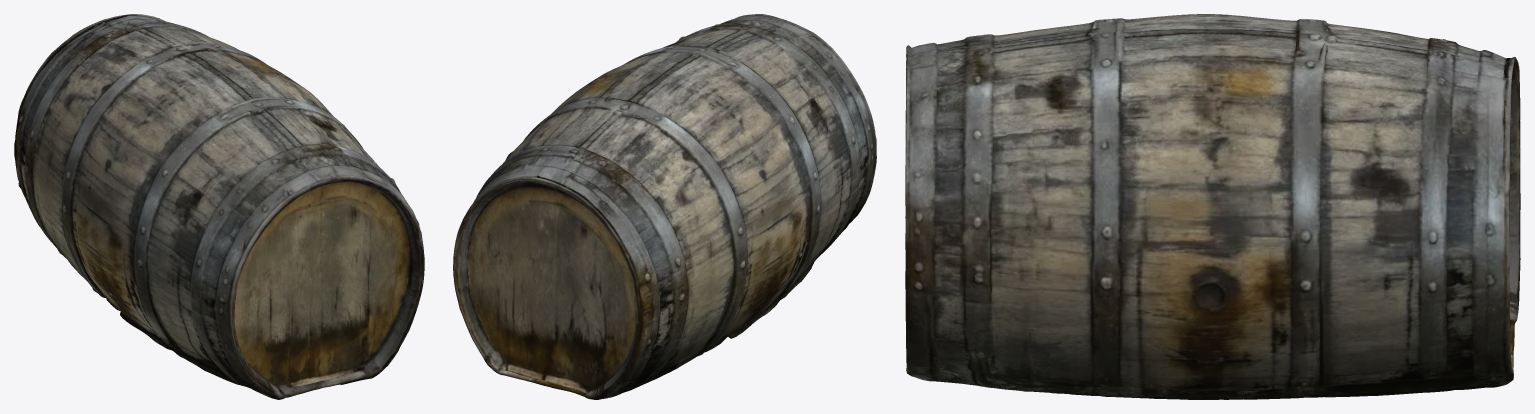
Rendered from floating barrel.glb.
3 views of the same model, side by side, from view 1: azimuth 30°, elevation 25°; view 2: azimuth 150°, elevation 25°; view 3: azimuth 270°, elevation 25° (orthographic). The views are drawn at different scales.
Visible parts, largest first — view 1: geometry_0; view 2: geometry_0; view 3: geometry_0.
Boxes of the visible parts, bbox=[...] form: geometry_0: bbox=[14, 14, 424, 399]; geometry_0: bbox=[453, 14, 876, 399]; geometry_0: bbox=[905, 14, 1520, 399].
Size of the model in its own units: 0.6237 by 0.5706 by 1.
1 material, 1 textured.
